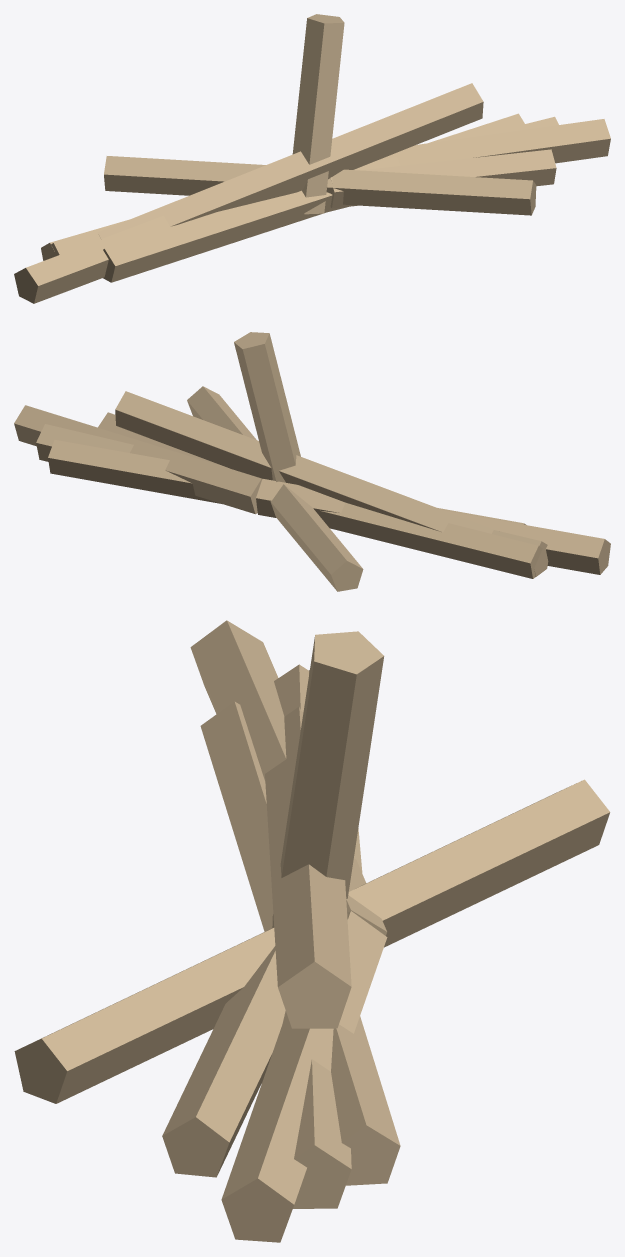
Rendered from stubble_A.glb.
The picture shows the model from 3 angles, top to bottom: view 1: azimuth 30°, elevation 25°; view 2: azimuth 150°, elevation 25°; view 3: azimuth 270°, elevation 25°; orthographic projection. The views are drawn at different scales.
Parts seen in each view (by area): view 1: stubble_cluster, stubble_angled, stubble_bent, stubble_standing, stubble_broken, stubble_straight; view 2: stubble_angled, stubble_cluster, stubble_bent, stubble_broken, stubble_standing, stubble_straight; view 3: stubble_cluster, stubble_bent, stubble_standing, stubble_angled, stubble_broken, stubble_straight.
Boxes of the visible parts, x1,y1,x2,y2 form: stubble_cluster: [103, 113, 536, 282]; stubble_angled: [97, 83, 483, 239]; stubble_bent: [14, 119, 610, 303]; stubble_standing: [292, 14, 344, 214]; stubble_broken: [41, 149, 556, 260]; stubble_straight: [46, 116, 558, 259]; stubble_angled: [115, 391, 497, 533]; stubble_cluster: [48, 386, 525, 591]; stubble_bent: [14, 405, 610, 574]; stubble_broken: [98, 412, 542, 578]; stubble_standing: [234, 332, 300, 482]; stubble_straight: [36, 424, 548, 576]; stubble_cluster: [14, 701, 610, 1185]; stubble_bent: [190, 620, 387, 1242]; stubble_standing: [272, 631, 384, 927]; stubble_angled: [265, 706, 351, 1028]; stubble_broken: [162, 670, 362, 1177]; stubble_straight: [274, 664, 351, 1208].
Size of the model in its own units: 0.5148 by 0.1514 by 0.2304.
